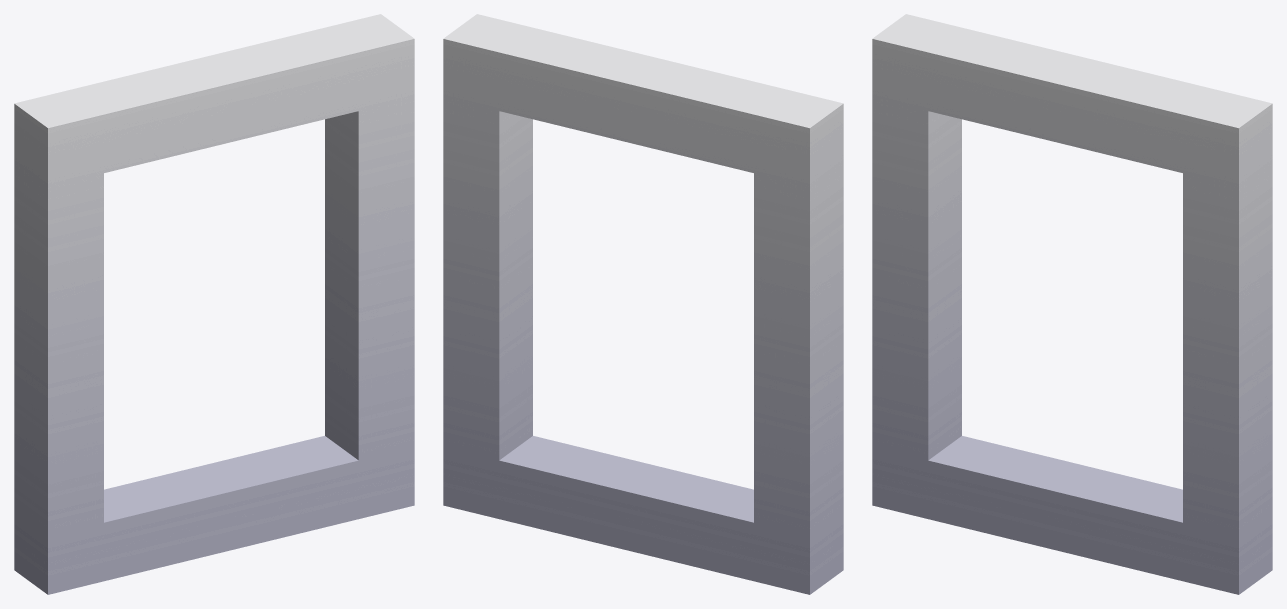
File: window-white.glb
The picture shows the model from 3 angles, left to right: view 1: azimuth 30°, elevation 25°; view 2: azimuth 150°, elevation 25°; view 3: azimuth 330°, elevation 25°; orthographic projection.
Visible parts, largest first — view 1: window-white; view 2: window-white; view 3: window-white.
Boxes of the visible parts, x1,y1,x2,y2 form: window-white: (14, 14, 414, 594); window-white: (443, 14, 843, 594); window-white: (872, 14, 1272, 594).
Size of the model in its own units: 0.3125 by 0.38 by 0.05.
1 material, 1 textured.
